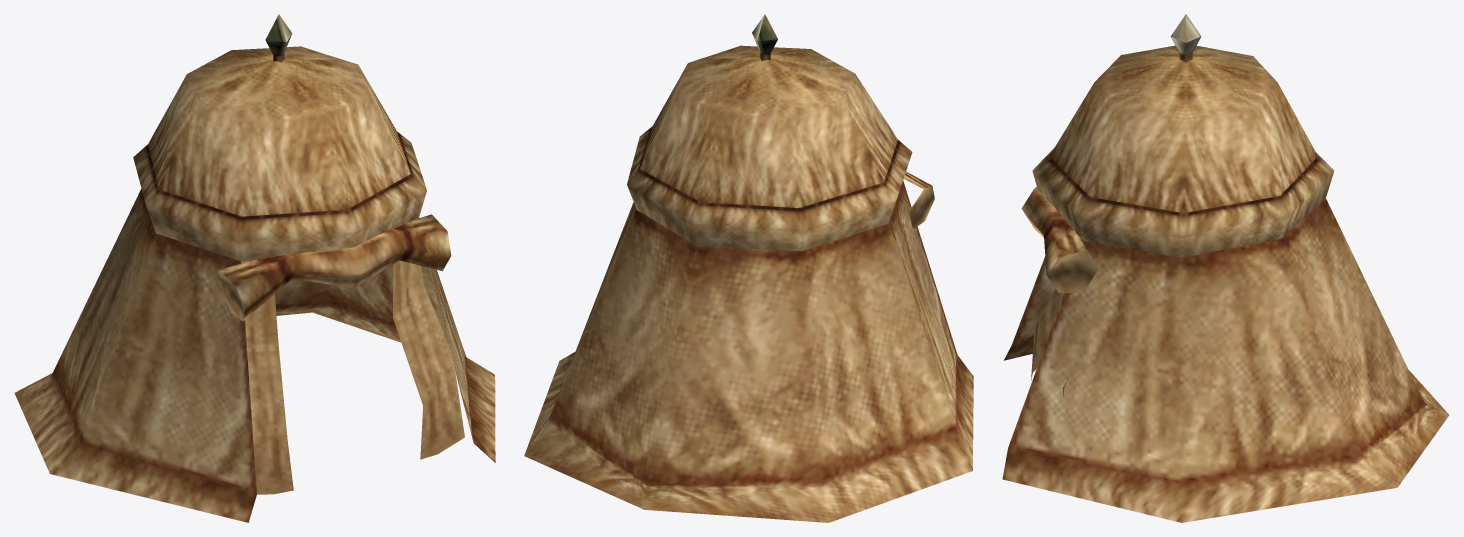
The model's file is general_obj_tent02.glb.
3 renders of one model, left to right at view 1: azimuth 30°, elevation 25°; view 2: azimuth 150°, elevation 25°; view 3: azimuth 270°, elevation 25°, orthographic. The views are drawn at different scales.
Visible parts, largest first — view 1: Mesh08; view 2: Mesh08; view 3: Mesh08.
Boxes of the visible parts, box(x1,y1,x2,y2) form: Mesh08: box(14, 14, 495, 522); Mesh08: box(524, 14, 973, 522); Mesh08: box(1002, 14, 1448, 522).
Size of the model in its own units: 4.85 by 4.38 by 4.37.
Materials: 1 (1 with a texture image).
